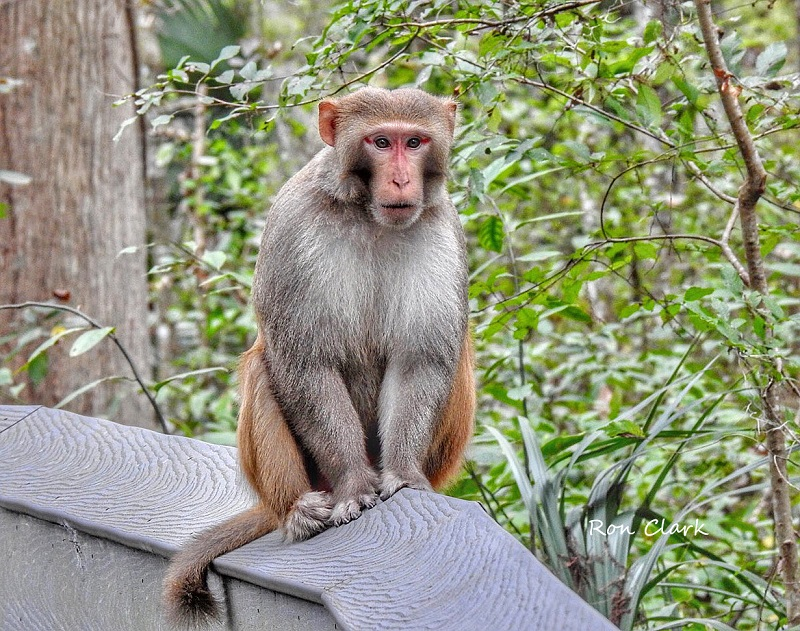monkey: (168, 84, 484, 622)
